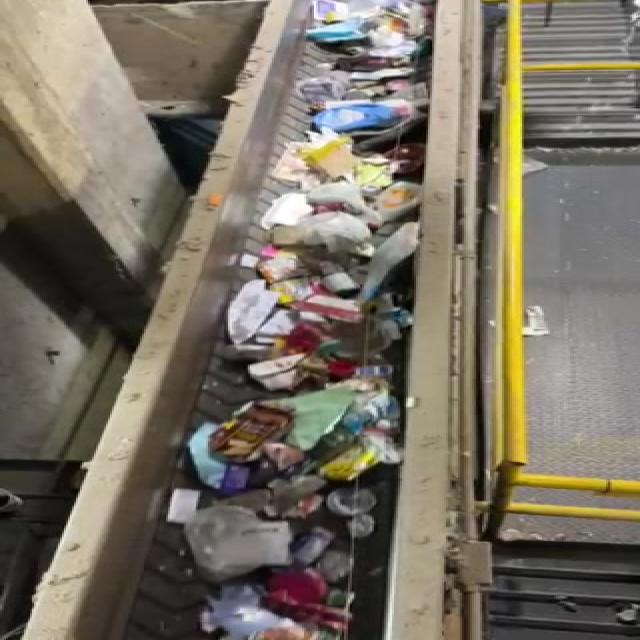paper: (142, 478, 214, 530)
pp: (200, 388, 293, 462), (315, 484, 385, 542)
ps: (178, 509, 300, 583)
